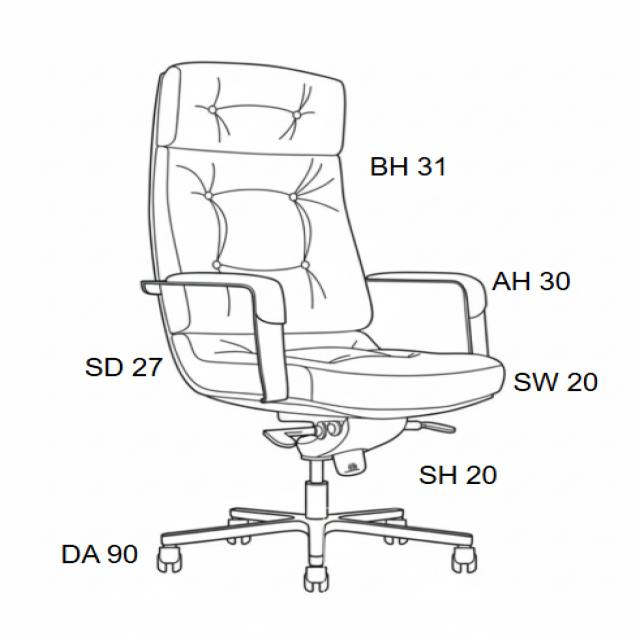5_Star_Base: (154, 504, 480, 598)
AH_Label: (489, 253, 603, 303)
Armrest: (157, 274, 287, 395), (373, 268, 493, 358)
BH_Label: (362, 140, 465, 191)
Backrest: (154, 150, 372, 333)
Caster_Wheel: (292, 557, 332, 600), (144, 543, 194, 576), (443, 548, 483, 587)
Control_Mechanism: (259, 419, 331, 452)
DA_Label: (57, 530, 147, 576)
Headrest: (147, 60, 351, 153)
SD_Label: (76, 330, 171, 395)
SH_Label: (417, 446, 529, 501)
SW_Label: (510, 361, 618, 409)
Seat: (169, 327, 513, 415)
